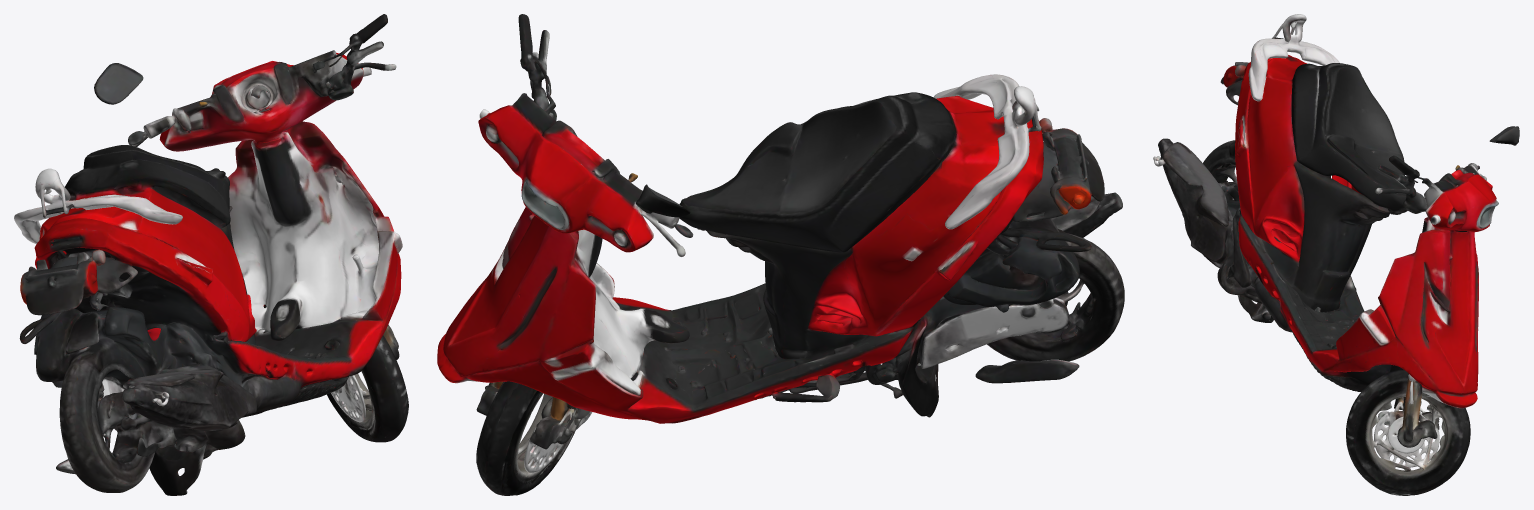
The model's file is pixal3d.glb.
The picture shows the model from 3 angles, left to right: view 1: azimuth 30°, elevation 25°; view 2: azimuth 150°, elevation 25°; view 3: azimuth 270°, elevation 25°; orthographic projection. The views are drawn at different scales.
Parts seen in each view (by area): view 1: world; view 2: world; view 3: world.
Part boxes in pixels (x1=…): world: x1=14, y1=14, x2=408, y2=495; world: x1=437, y1=14, x2=1124, y2=495; world: x1=1153, y1=14, x2=1519, y2=495.
Bounding box in the file's own units: 0.8589 × 0.7232 × 0.7041.
Materials: 1 (1 with a texture image).
